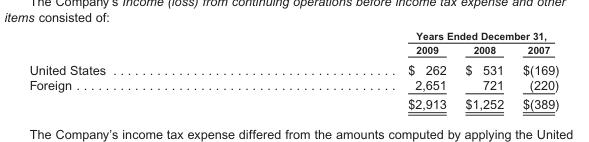table: (28, 29, 558, 110)
table column: (28, 29, 256, 110), (256, 29, 455, 110), (455, 29, 512, 110), (512, 29, 558, 110)
table column header: (28, 29, 558, 58)
table row: (28, 58, 558, 77), (28, 77, 558, 94), (28, 42, 558, 58), (28, 94, 558, 110), (28, 29, 558, 42)
table spanning cell: (256, 29, 558, 42)
